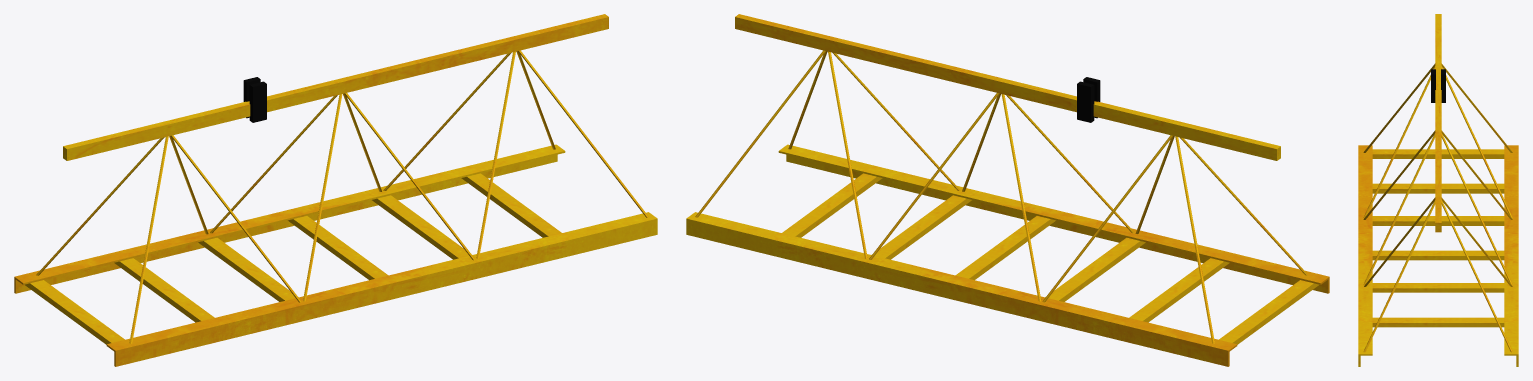
The model's file is SurroundingEnvironment_CraneArm.fbx.
3 views of the same model, side by side, from view 1: azimuth 30°, elevation 25°; view 2: azimuth 150°, elevation 25°; view 3: azimuth 270°, elevation 25° (orthographic). The views are drawn at different scales.
Parts seen in each view (by area): view 1: CraneArms; view 2: CraneArms; view 3: CraneArms.
Boxes of the visible parts, bbox=[...] form: CraneArms: bbox=[14, 14, 657, 366]; CraneArms: bbox=[686, 14, 1329, 366]; CraneArms: bbox=[1358, 14, 1518, 366].
Bounding box in the file's own units: 8.95 × 3.18 × 2.9.
